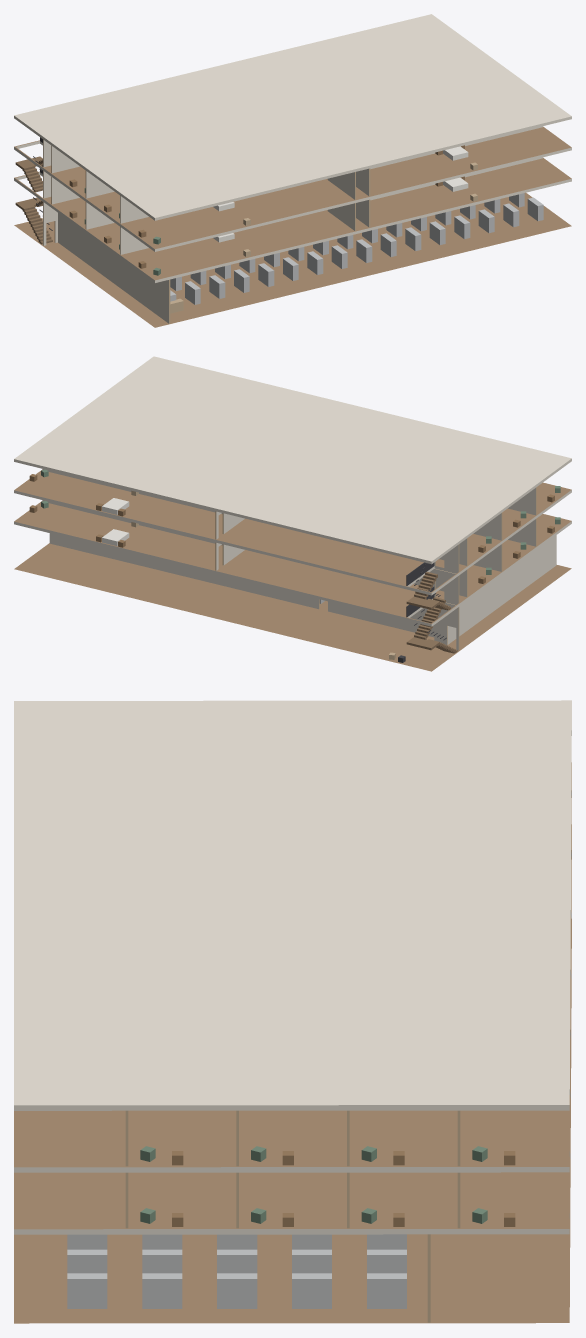
File: interior.glb
3 views of the same model, one above another, from view 1: azimuth 30°, elevation 25°; view 2: azimuth 150°, elevation 25°; view 3: azimuth 270°, elevation 25° (orthographic). The views are drawn at different scales.
Parts seen in each view (by area): view 1: slabs, partitions, coarse-s0, stair, coarse-s2, coarse-s1; view 2: slabs, partitions, stair, coarse-s1, coarse-s2; view 3: slabs, coarse-s0, partitions, coarse-s2, coarse-s1.
Part boxes in pixels (x1,y1,x2,y2): slabs: (14,14,571,327); partitions: (43,126,542,323); coarse-s0: (170,193,543,313); stair: (15,137,52,244); coarse-s2: (69,145,477,244); coarse-s1: (69,176,477,275); slabs: (14,356,571,671); partitions: (42,469,556,650); stair: (406,562,457,653); coarse-s1: (29,501,560,583); coarse-s2: (29,469,560,552); slabs: (14,700,571,1323); coarse-s0: (67,1234,406,1308); partitions: (125,1110,460,1322); coarse-s2: (140,1146,515,1165); coarse-s1: (140,1208,515,1226).
Bounding box in the file's own units: 40.92 × 10.3 × 23.83.
